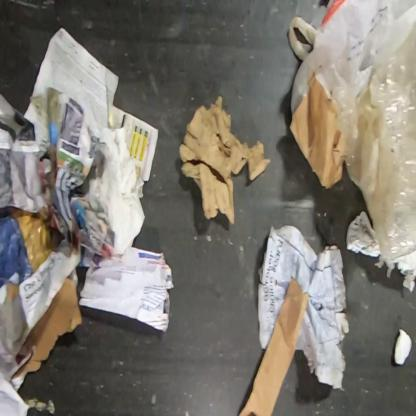cardboard: (178, 97, 272, 224), (238, 275, 309, 415), (10, 277, 83, 379), (289, 72, 346, 189)
soft_plastic: (288, 16, 415, 278), (321, 0, 415, 58)
